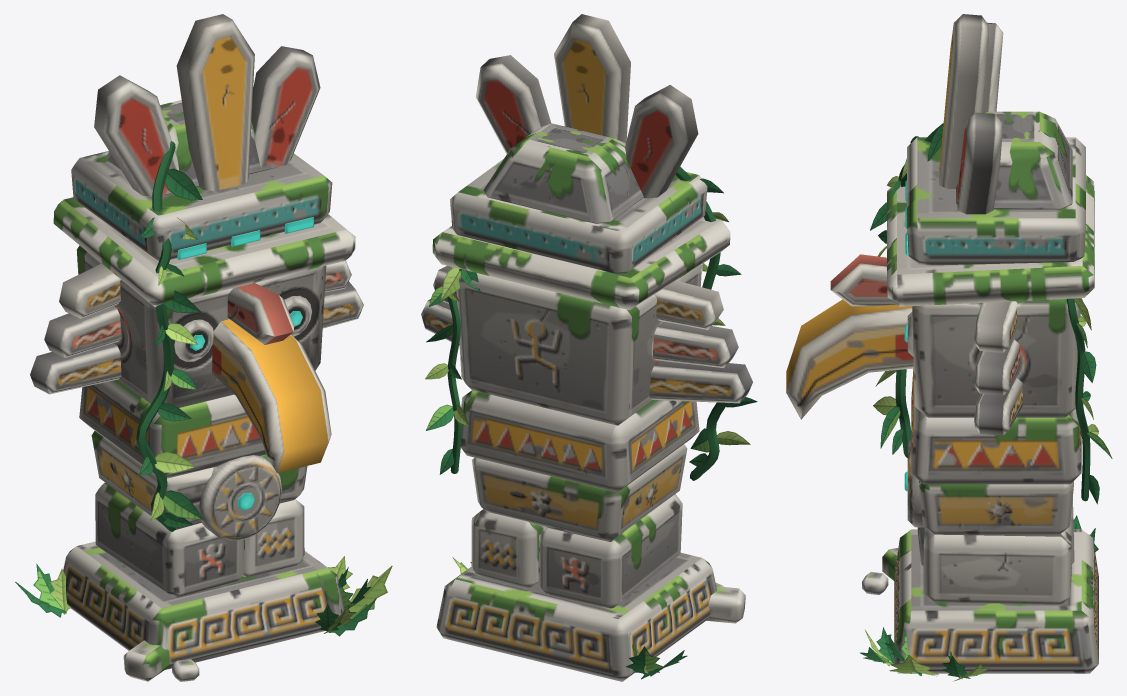
The model's file is gate_totem_b.glb.
3 views of the same model, side by side, from view 1: azimuth 30°, elevation 25°; view 2: azimuth 150°, elevation 25°; view 3: azimuth 270°, elevation 25° (orthographic).
Visible parts, largest first — view 1: gate_totem_b, gate_totem_b_glow; view 2: gate_totem_b; view 3: gate_totem_b.
Boxes of the visible parts, <box> form: gate_totem_b: <box>15,14,392,681</box>; gate_totem_b_glow: <box>177,217,313,510</box>; gate_totem_b: <box>421,14,757,681</box>; gate_totem_b: <box>786,14,1112,681</box>.
Bounding box in the file's own units: 6.42 × 11.36 × 5.51.
Materials: 2 (2 with a texture image).
